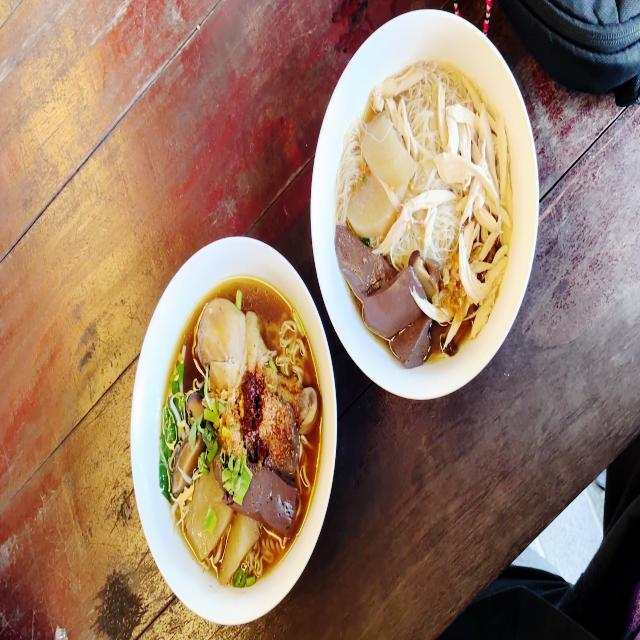boiled_chicken_blood_jelly: (335, 221, 385, 287), (250, 472, 295, 534), (368, 258, 412, 319), (388, 314, 431, 363)
chicken_drumstick: (195, 298, 319, 428)
chicken_shredded: (437, 76, 512, 325), (377, 188, 457, 252), (437, 148, 503, 203), (372, 59, 438, 107), (457, 242, 496, 299), (438, 89, 452, 147)
daikon_radish: (360, 106, 416, 190), (184, 480, 224, 544), (351, 172, 394, 231), (224, 516, 260, 581)
noodle: (332, 44, 519, 369), (160, 276, 322, 585)
